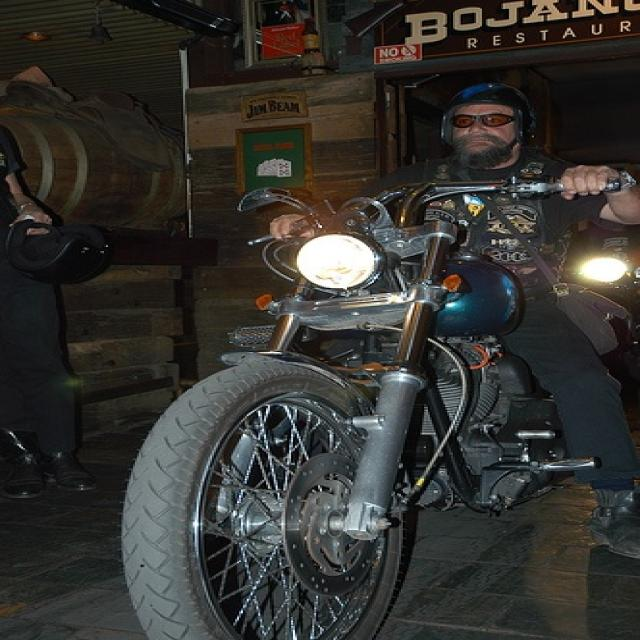motorbike: (114, 166, 638, 639)
